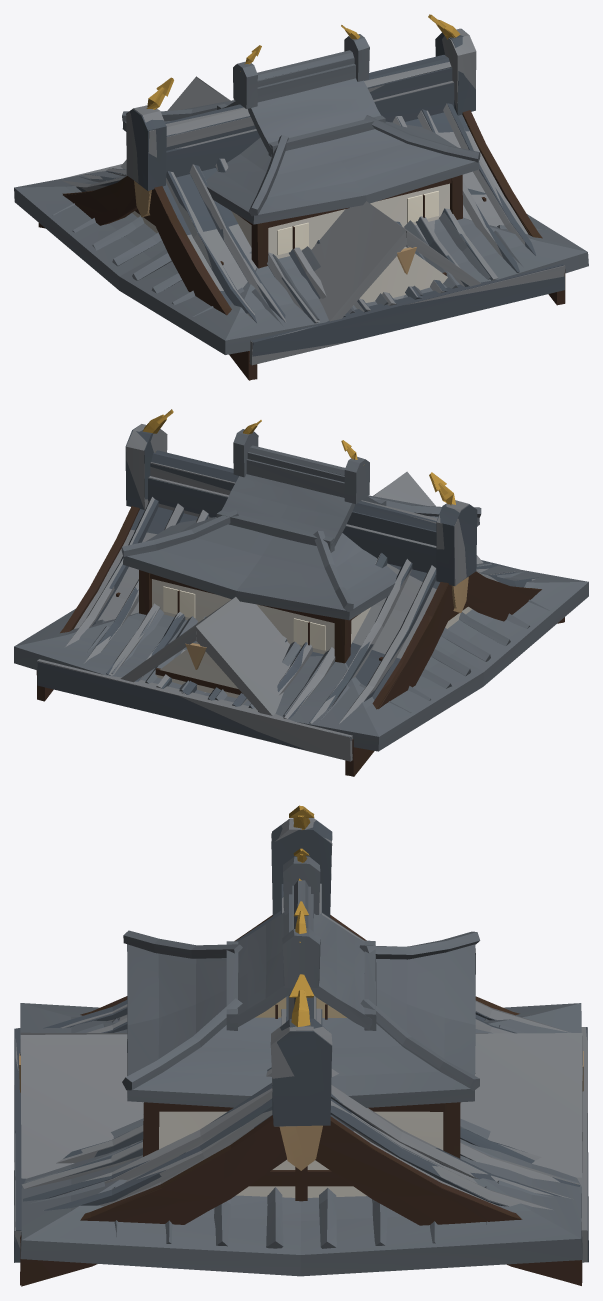
The model's file is roof.stepped_gable.glb.
3 views of the same model, one above another, from view 1: azimuth 30°, elevation 25°; view 2: azimuth 150°, elevation 25°; view 3: azimuth 270°, elevation 25° (orthographic). The views are drawn at different scales.
Visible parts, largest first — view 1: roof.stepped_gable.v2.mesh, roof.stepped_gable.v0.mesh, roof.stepped_gable.v1.mesh, roof.stepped_gable.v1.upper; view 2: roof.stepped_gable.v2.mesh, roof.stepped_gable.v1.mesh, roof.stepped_gable.v1.upper, roof.stepped_gable.v0.mesh; view 3: roof.stepped_gable.v1.upper, roof.stepped_gable.v2.mesh, roof.stepped_gable.v1.mesh, roof.stepped_gable.v0.mesh.
Boxes of the visible parts, x1=… form: roof.stepped_gable.v2.mesh: x1=62, y1=14, x2=565, y2=380; roof.stepped_gable.v0.mesh: x1=38, y1=14, x2=564, y2=380; roof.stepped_gable.v1.mesh: x1=14, y1=168, x2=588, y2=354; roof.stepped_gable.v1.upper: x1=122, y1=25, x2=480, y2=224; roof.stepped_gable.v2.mesh: x1=37, y1=409, x2=564, y2=776; roof.stepped_gable.v1.mesh: x1=14, y1=563, x2=588, y2=751; roof.stepped_gable.v1.upper: x1=121, y1=420, x2=481, y2=620; roof.stepped_gable.v0.mesh: x1=36, y1=410, x2=564, y2=776; roof.stepped_gable.v1.upper: x1=122, y1=848, x2=480, y2=1107; roof.stepped_gable.v2.mesh: x1=14, y1=805, x2=587, y2=1286; roof.stepped_gable.v1.mesh: x1=20, y1=1003, x2=582, y2=1276; roof.stepped_gable.v0.mesh: x1=14, y1=805, x2=588, y2=1285.
Size of the model in its own units: 2.81 by 1.7 by 2.87.
